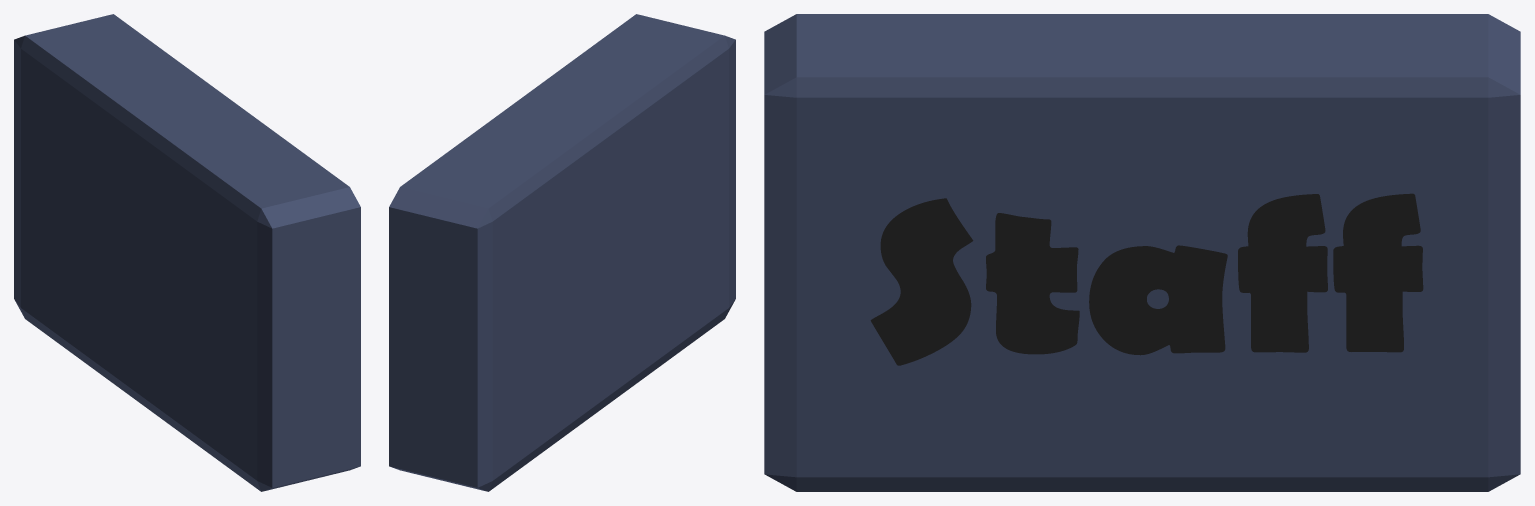
File: Staff.fbx
3 renders of one model, left to right at view 1: azimuth 30°, elevation 25°; view 2: azimuth 150°, elevation 25°; view 3: azimuth 270°, elevation 25°, orthographic. The views are drawn at different scales.
Parts seen in each view (by area): view 1: Cube; view 2: Cube; view 3: Cube, Text.
Boxes of the visible parts, x1,y1,x2,y2 form: Cube: (14,14,360,491); Cube: (389,14,735,491); Cube: (764,14,1520,491); Text: (870,193,1423,365).
Size of the model in its own units: 25.96 by 70.92 by 117.
